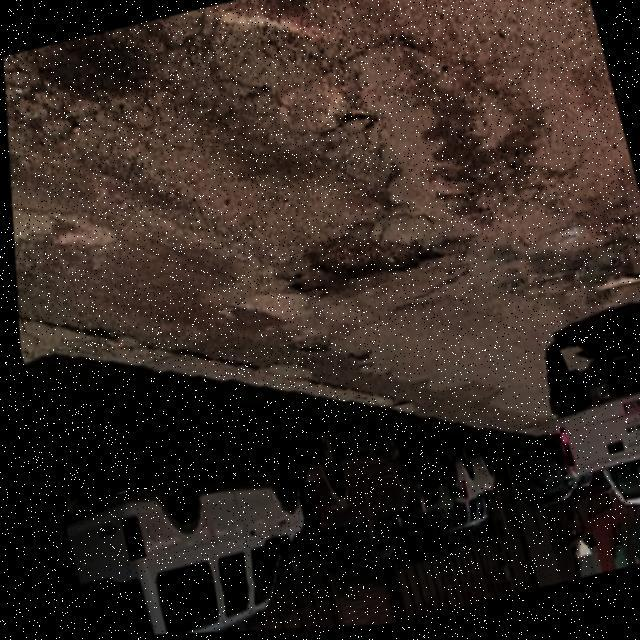pothole: (300, 220, 442, 297), (596, 230, 640, 298)
